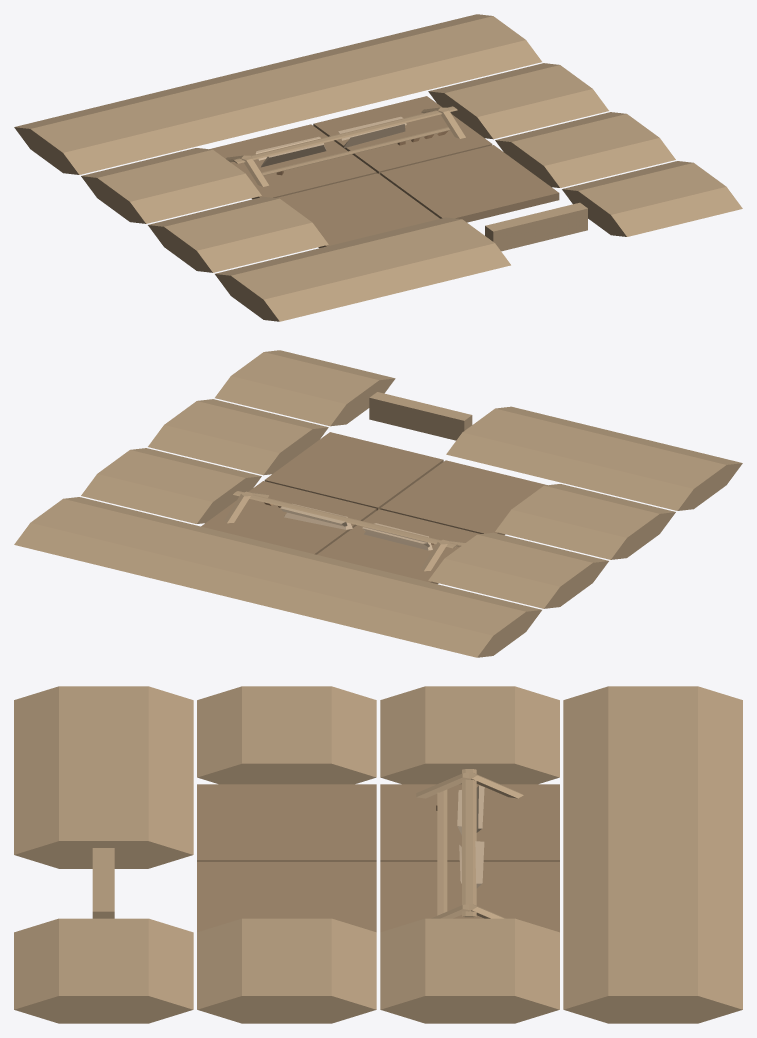
The model's file is building_drying_shed_foundation.glb.
3 renders of one model, top to bottom at view 1: azimuth 30°, elevation 25°; view 2: azimuth 150°, elevation 25°; view 3: azimuth 270°, elevation 25°, orthographic. The views are drawn at different scales.
Parts seen in each view (by area): view 1: building_drying_shed_foundation; view 2: building_drying_shed_foundation; view 3: building_drying_shed_foundation.
Part boxes in pixels (x1=…): building_drying_shed_foundation: x1=14, y1=14, x2=742, y2=321; building_drying_shed_foundation: x1=14, y1=350, x2=742, y2=657; building_drying_shed_foundation: x1=14, y1=686, x2=742, y2=1023.
Bounding box in the file's own units: 4 × 0.1812 × 3.98.
